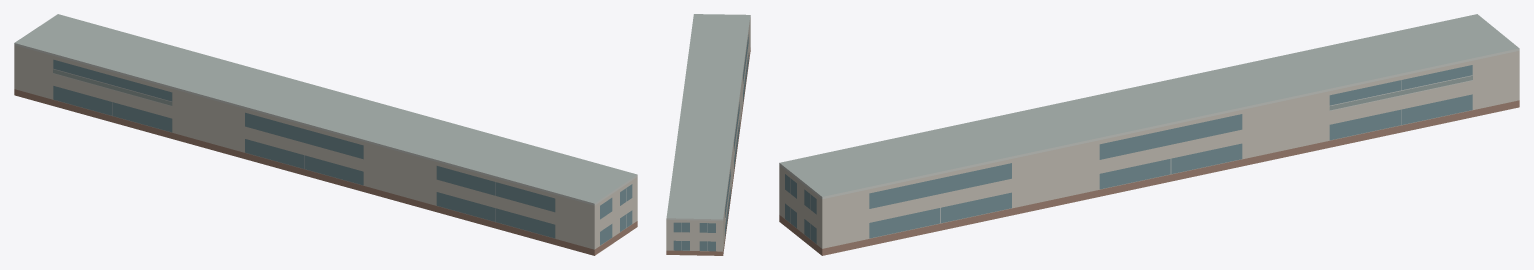
The model's file is survey-upis-32529353.glb.
The picture shows the model from 3 angles, left to right: view 1: azimuth 30°, elevation 25°; view 2: azimuth 150°, elevation 25°; view 3: azimuth 270°, elevation 25°; orthographic projection. The views are drawn at different scales.
Visible parts, largest first — view 1: survey-upis-32529353.tmp; view 2: survey-upis-32529353.tmp; view 3: survey-upis-32529353.tmp.
Part boxes in pixels (bbox=[...]): survey-upis-32529353.tmp: bbox=[14, 14, 637, 255]; survey-upis-32529353.tmp: bbox=[666, 14, 750, 255]; survey-upis-32529353.tmp: bbox=[779, 14, 1519, 255].
Size of the model in its own units: 40.57 by 6.1 by 69.35.
